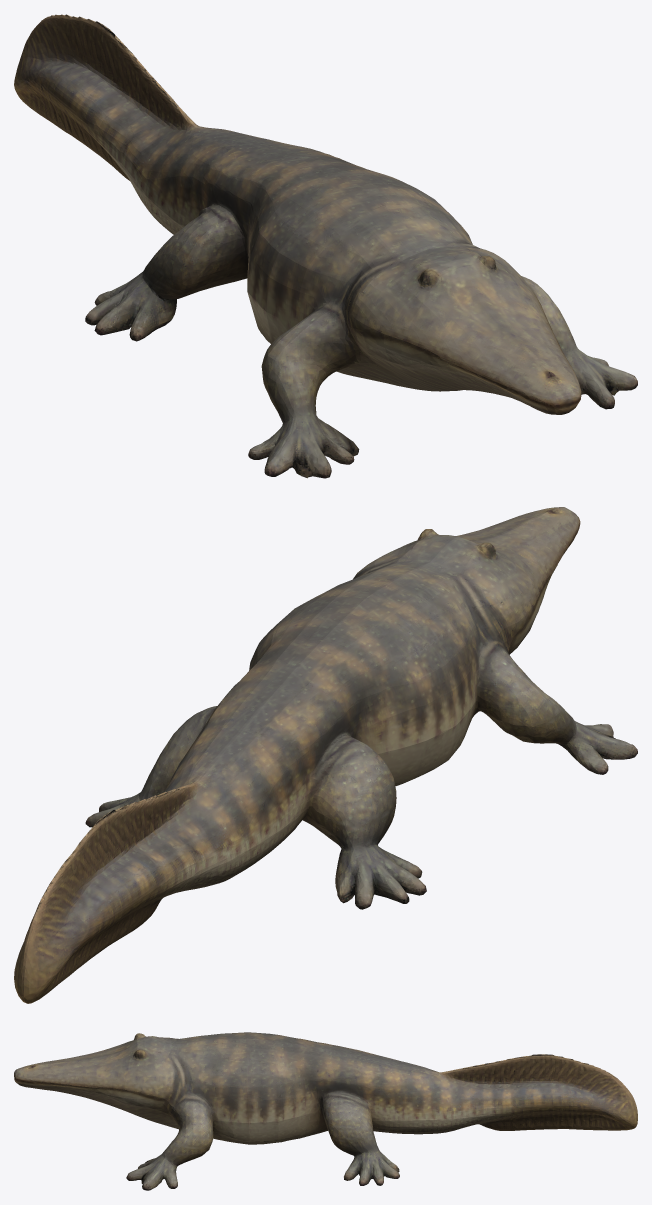
3 views of the same model, one above another, from view 1: azimuth 30°, elevation 25°; view 2: azimuth 150°, elevation 25°; view 3: azimuth 270°, elevation 25° (orthographic). The views are drawn at different scales.
Visible parts, largest first — view 1: world; view 2: world; view 3: world.
Part boxes in pixels (bbox=[...]): world: bbox=[14, 14, 637, 478]; world: bbox=[14, 507, 637, 1003]; world: bbox=[14, 1032, 637, 1190].
Size of the model in its own units: 0.393 by 0.1828 by 1.
Materials: 1 (1 with a texture image).
